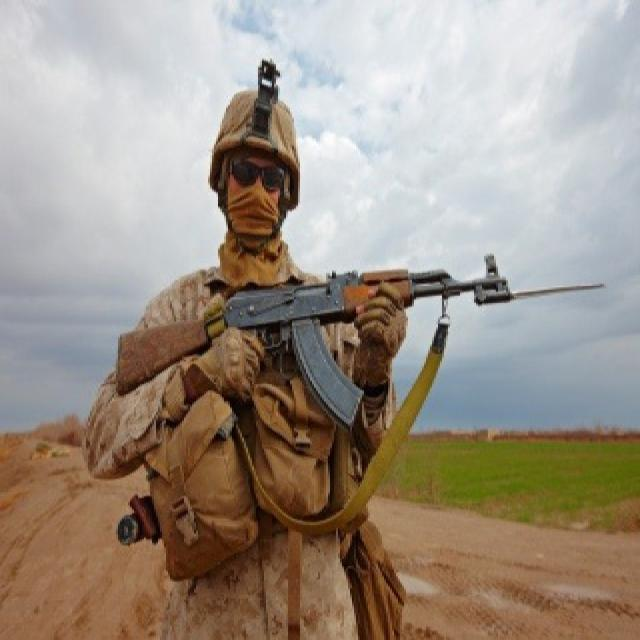weapon: (96, 255, 612, 394)
